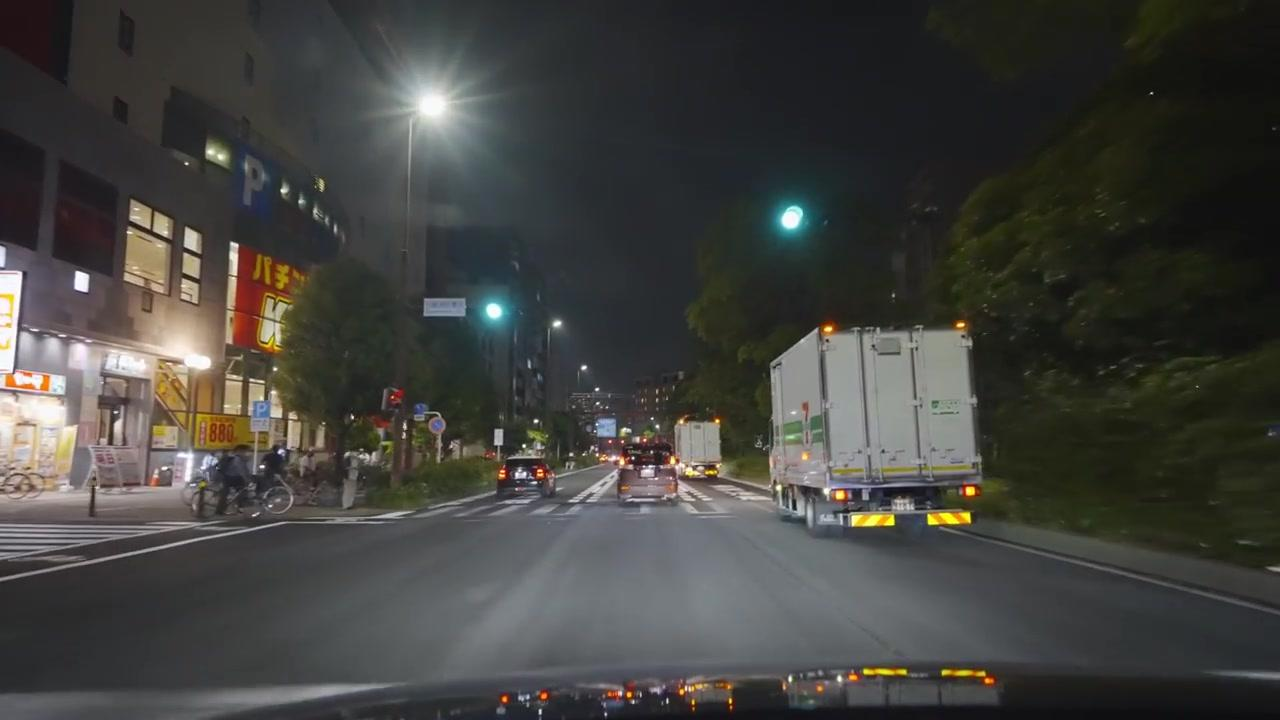bicycle: (0, 459, 48, 498)
car: (617, 460, 678, 505), (497, 456, 557, 498)
motorcycle: (187, 464, 295, 519)
person: (192, 451, 291, 517), (213, 446, 254, 513), (259, 441, 289, 487), (299, 448, 320, 498)
traffic light: (483, 294, 506, 325)
truck: (768, 323, 983, 542), (617, 456, 678, 505), (673, 418, 722, 479)
